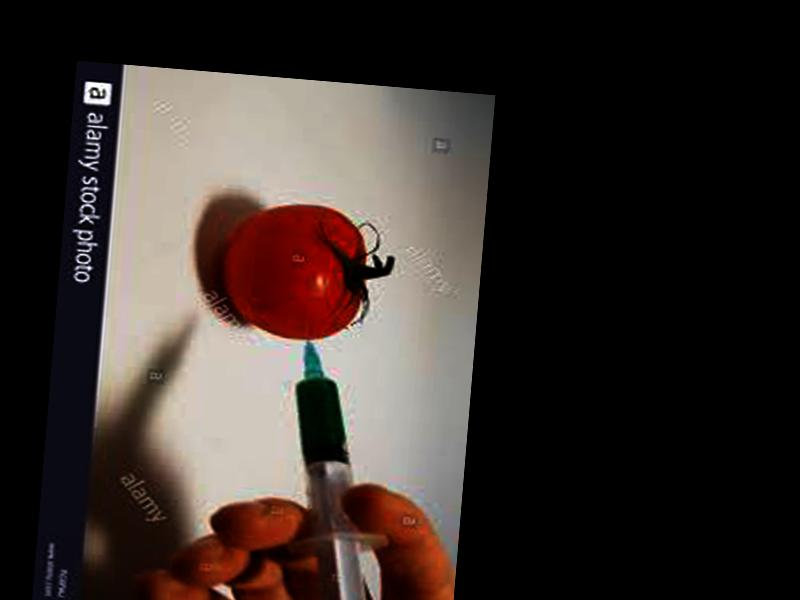Tomato: (217, 200, 369, 344)
